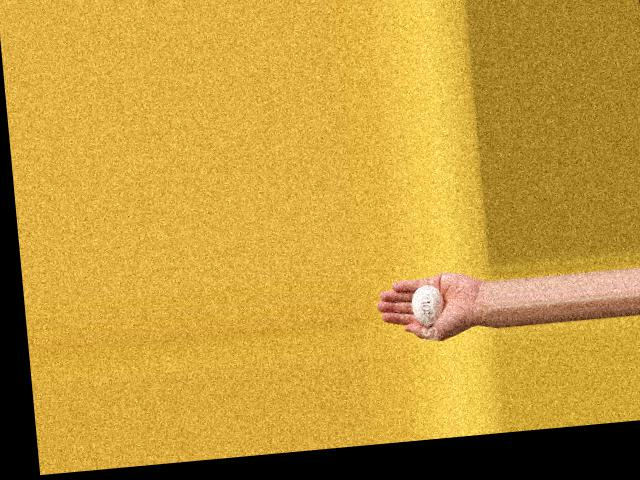egg: (410, 283, 445, 327)
